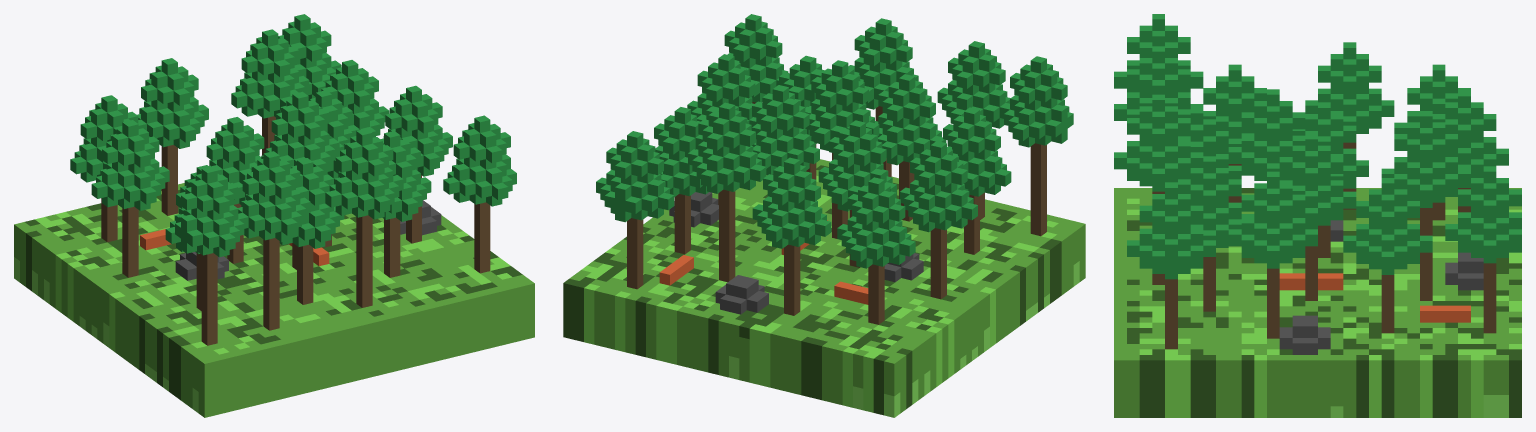
The model's file is Plaines Map-45.obj.
3 views of the same model, side by side, from view 1: azimuth 30°, elevation 25°; view 2: azimuth 150°, elevation 25°; view 3: azimuth 270°, elevation 25° (orthographic). The views are drawn at different scales.
Bounding box in the file's own units: 3.2 × 2.1 × 3.2.
1 material, 1 textured.
